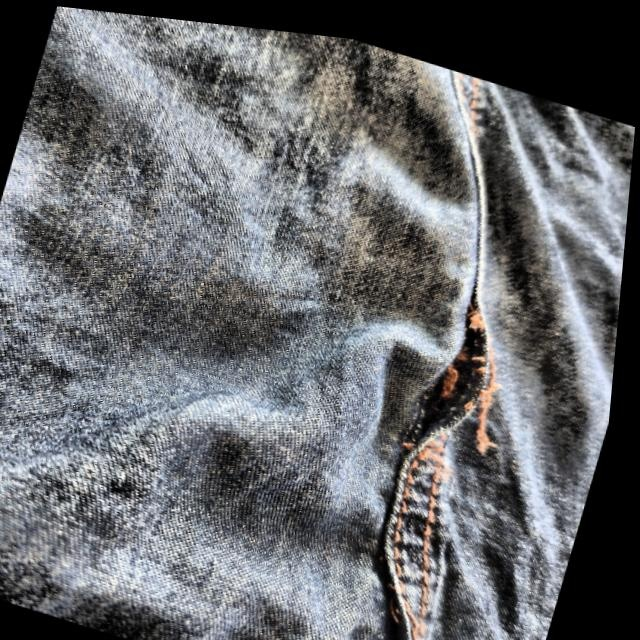seam: (374, 269, 550, 491), (323, 527, 479, 640)
